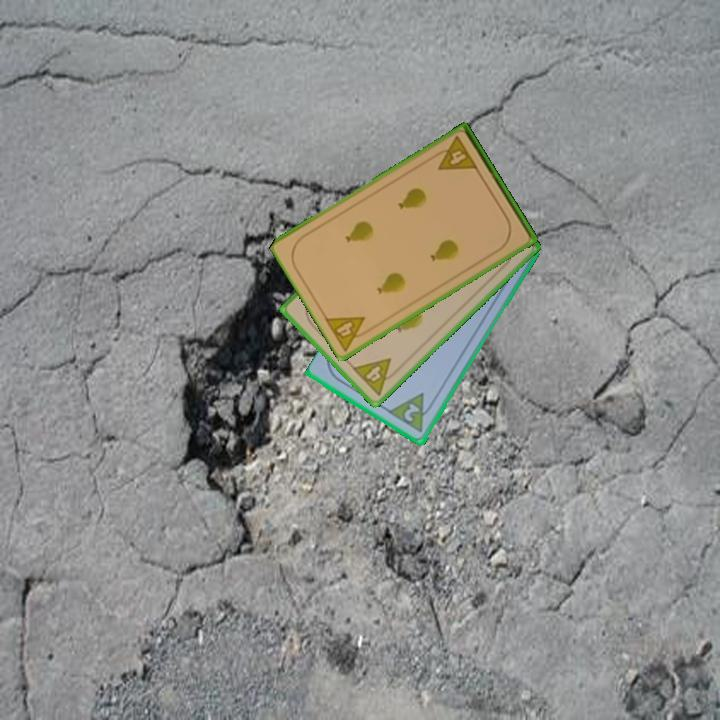2p: (386, 389, 438, 436)
4p: (348, 354, 403, 399), (321, 313, 376, 354), (429, 133, 480, 174)
